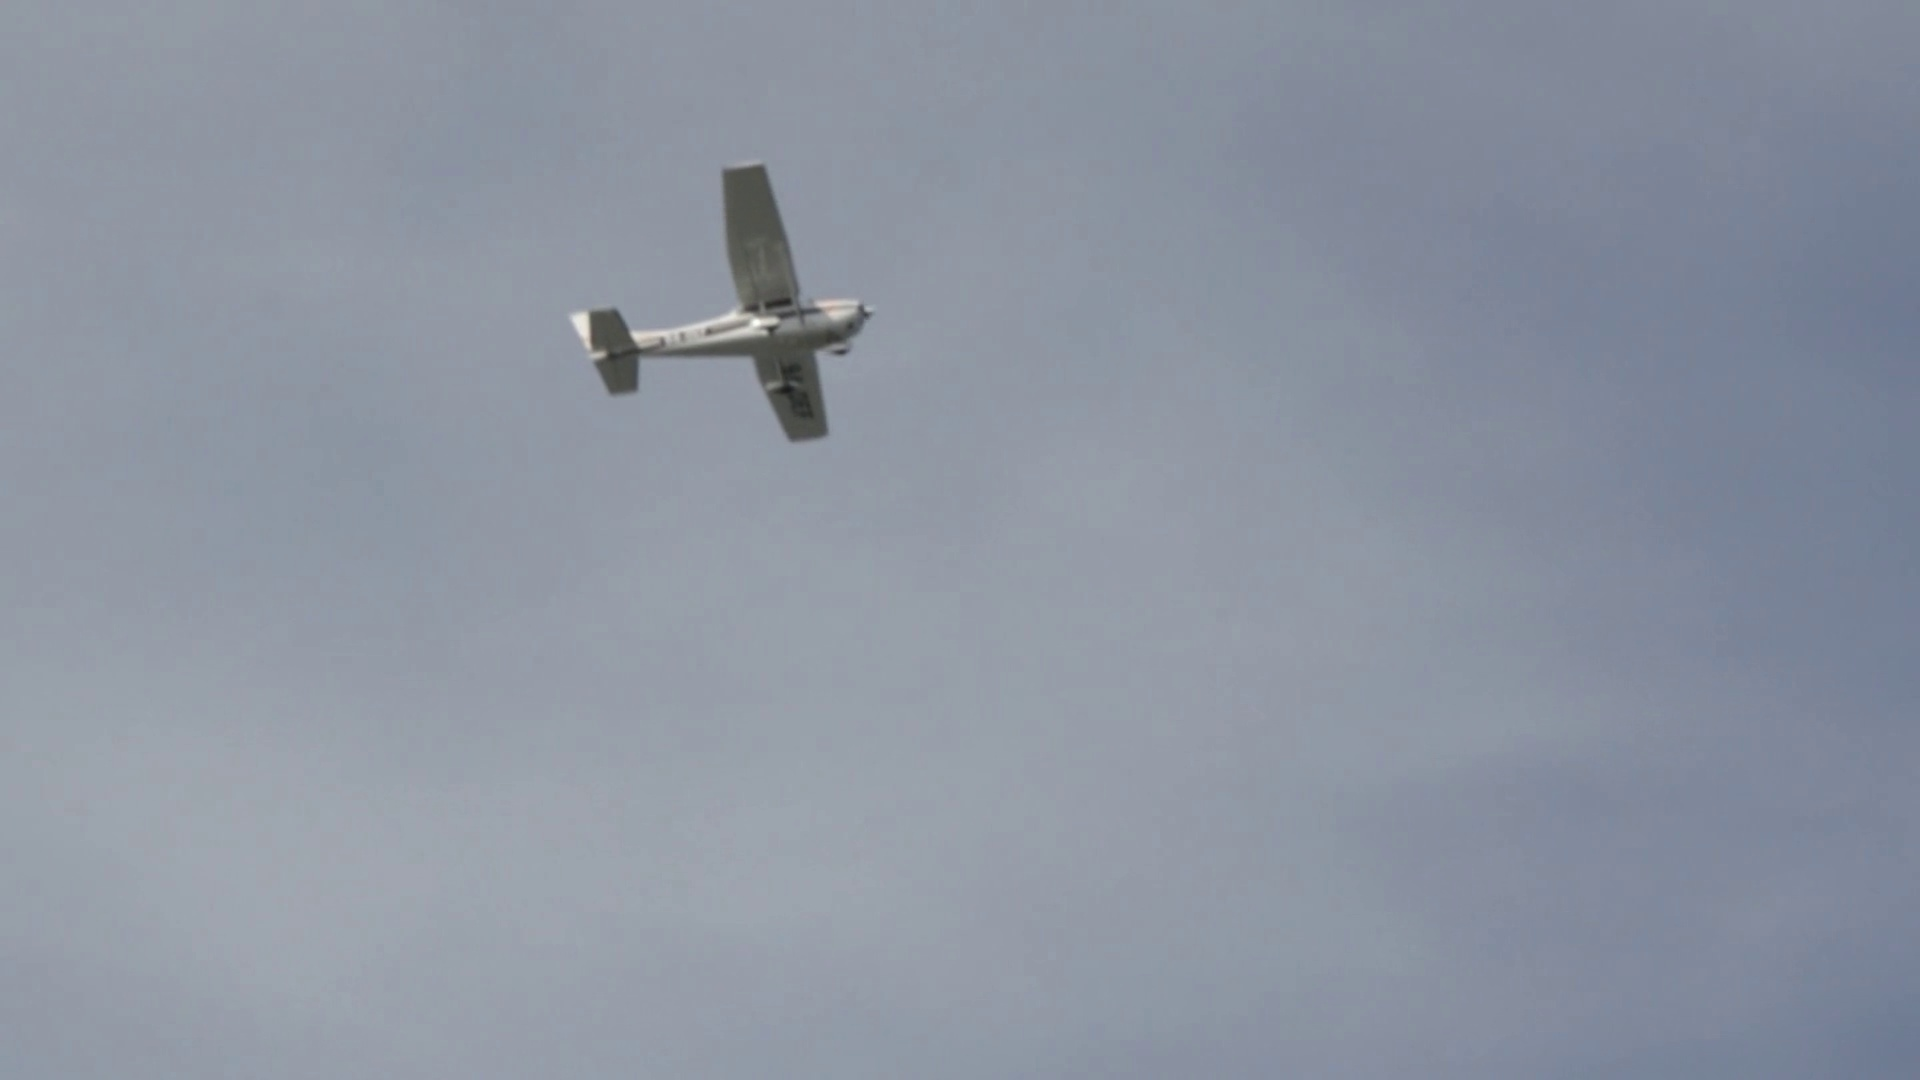plane: (568, 160, 877, 447)
